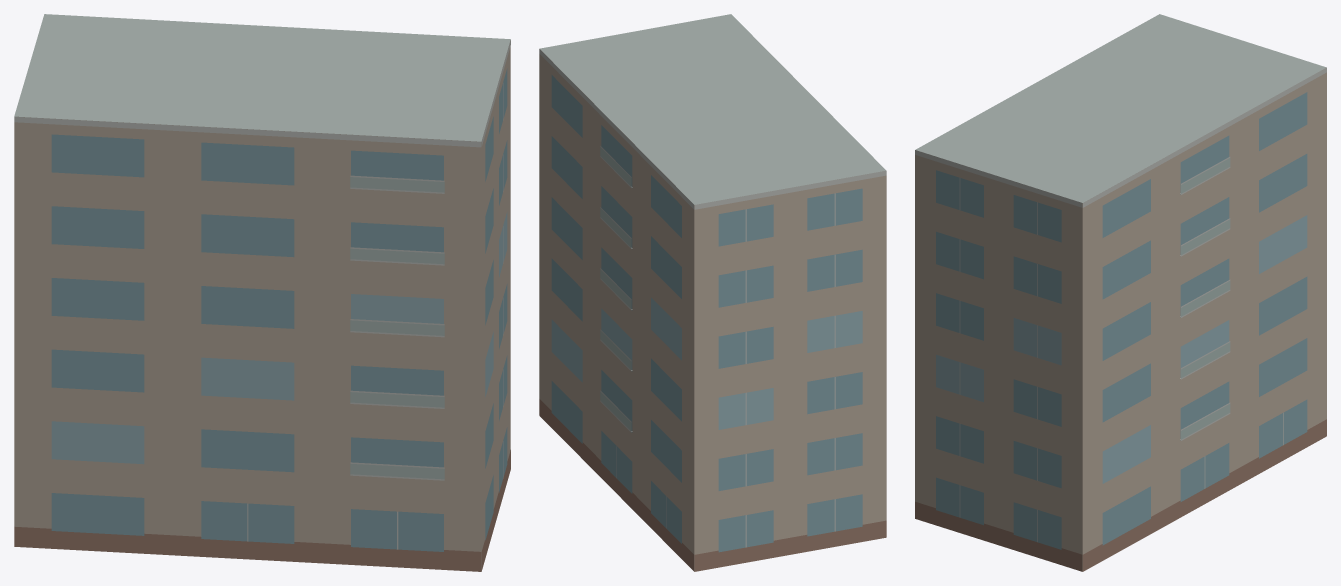
Rendered from survey-upis-32993017.glb.
The picture shows the model from 3 angles, left to right: view 1: azimuth 30°, elevation 25°; view 2: azimuth 150°, elevation 25°; view 3: azimuth 270°, elevation 25°; orthographic projection. The views are drawn at different scales.
Visible parts, largest first — view 1: survey-upis-32993017.tmp; view 2: survey-upis-32993017.tmp; view 3: survey-upis-32993017.tmp.
Part boxes in pixels (x1,y1,x2,y2): survey-upis-32993017.tmp: (14,14,510,571); survey-upis-32993017.tmp: (539,14,886,571); survey-upis-32993017.tmp: (915,14,1326,571).
Bounding box in the file's own units: 20.12 × 18.3 × 18.52.
